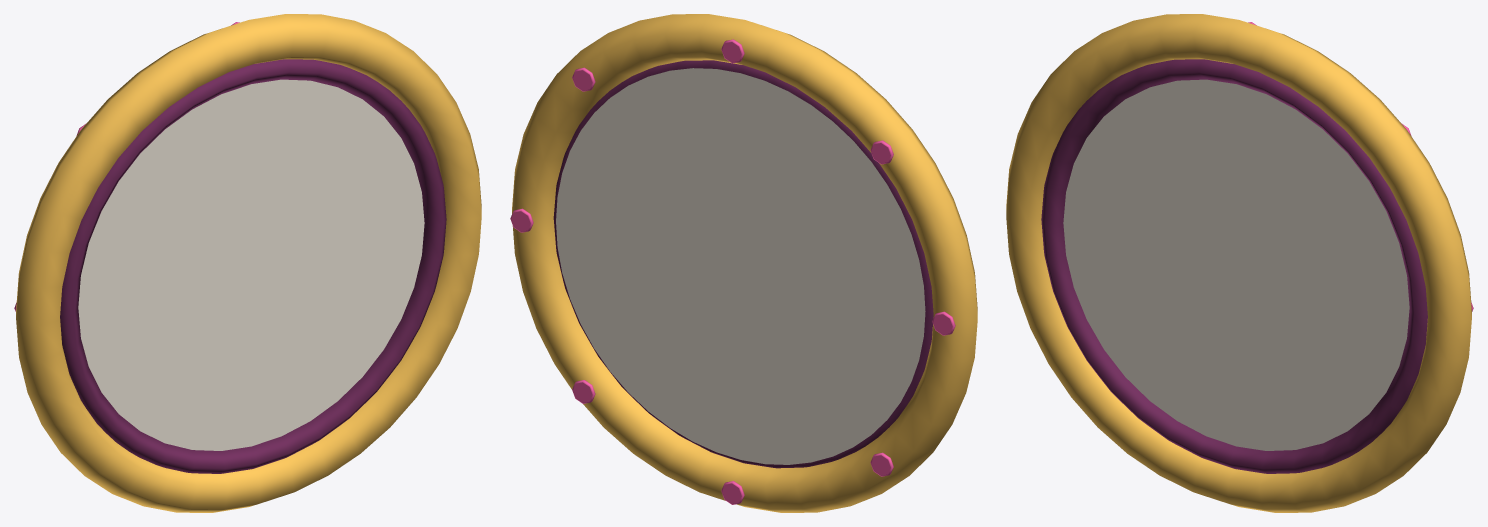
File: toy-big-spiral.glb
3 renders of one model, left to right at view 1: azimuth 30°, elevation 25°; view 2: azimuth 150°, elevation 25°; view 3: azimuth 330°, elevation 25°, orthographic.
Parts seen in each view (by area): view 1: toy_loom_face, toy_wheel; view 2: toy_loom_face, toy_wheel; view 3: toy_loom_face, toy_wheel.
Part boxes in pixels (x1,y1,x2,y2): toy_loom_face: [78, 79, 424, 450]; toy_wheel: [14, 14, 481, 512]; toy_loom_face: [556, 68, 925, 464]; toy_wheel: [510, 14, 977, 512]; toy_loom_face: [1063, 79, 1409, 450]; toy_wheel: [1006, 14, 1473, 512].
Bounding box in the file's own units: 1.6 × 1.6 × 0.142.
